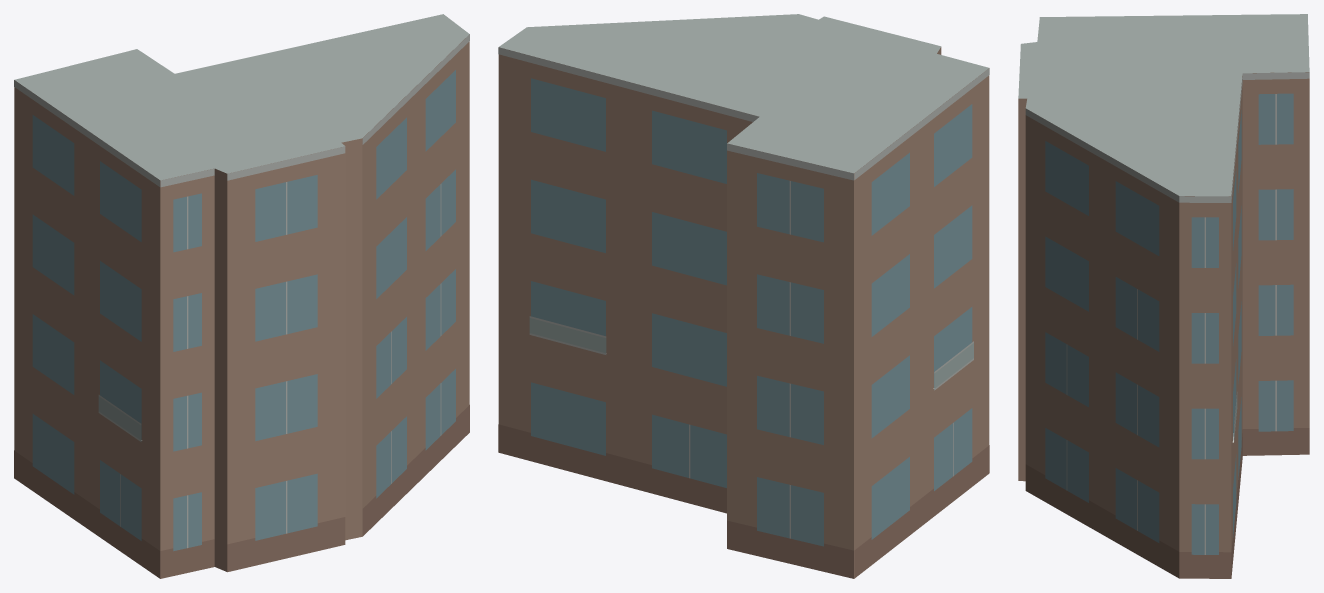
File: survey-upis-32506480.glb
The picture shows the model from 3 angles, left to right: view 1: azimuth 30°, elevation 25°; view 2: azimuth 150°, elevation 25°; view 3: azimuth 270°, elevation 25°; orthographic projection. The views are drawn at different scales.
Parts seen in each view (by area): view 1: survey-upis-32506480.tmp; view 2: survey-upis-32506480.tmp; view 3: survey-upis-32506480.tmp.
Part boxes in pixels (x1=…): survey-upis-32506480.tmp: x1=14, y1=14, x2=469, y2=578; survey-upis-32506480.tmp: x1=498, y1=14, x2=989, y2=578; survey-upis-32506480.tmp: x1=1018, y1=14, x2=1309, y2=578.
Bounding box in the file's own units: 14.17 × 13.85 × 9.57.
